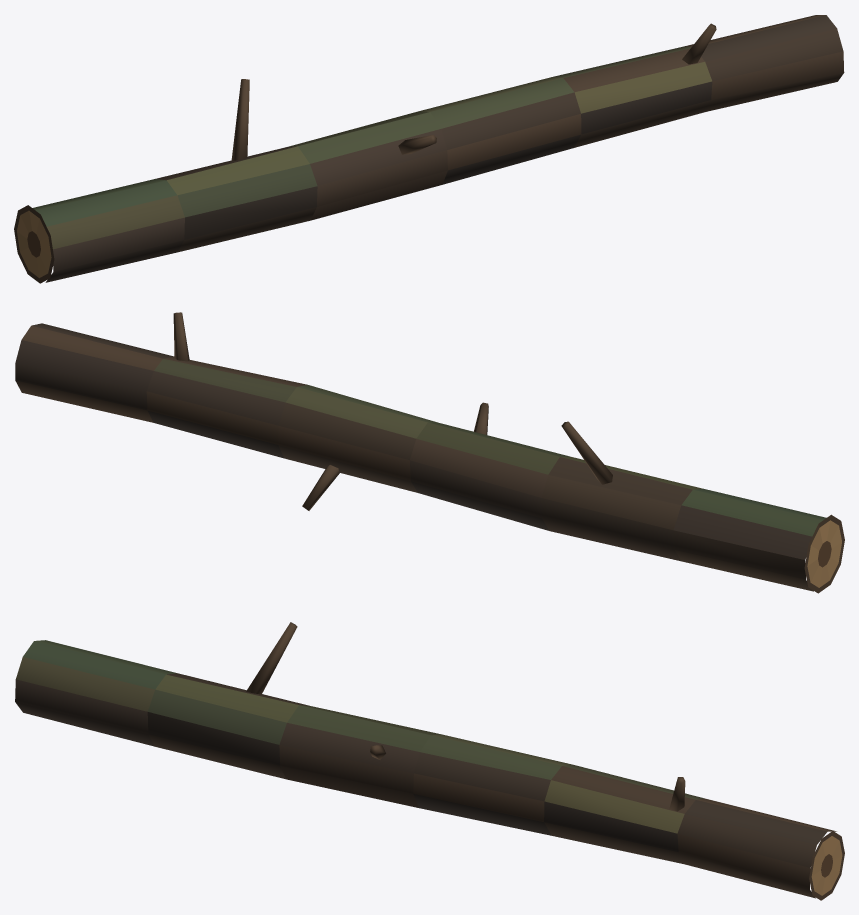
Rendered from log.glb.
3 renders of one model, top to bottom at view 1: azimuth 30°, elevation 25°; view 2: azimuth 150°, elevation 25°; view 3: azimuth 330°, elevation 25°, orthographic.
Visible parts, largest first — view 1: log; view 2: log; view 3: log.
Boxes of the visible parts, x1=… form: log: x1=14, y1=15, x2=844, y2=283; log: x1=15, y1=312, x2=844, y2=593; log: x1=15, y1=622, x2=844, y2=900.
Size of the model in its own units: 6 by 1.09 by 0.7737.
